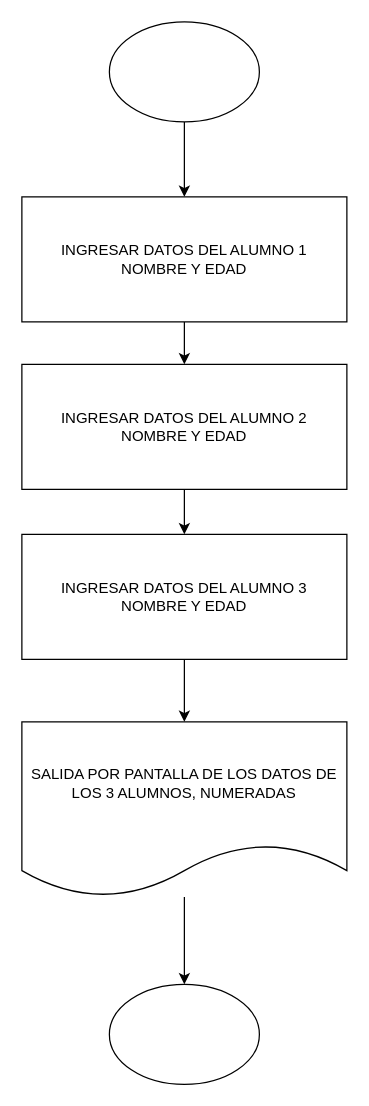
The diagram is 369 pixels wide and 1106 high, and some of its shapes have lost their labels. The box of each missing label's shape, as (x1, y1, x2, y2) in pixels:
FIN DEL PROGRAMA: (108, 983, 259, 1084)
INICIO DE PROGRAMA: (108, 21, 259, 122)
